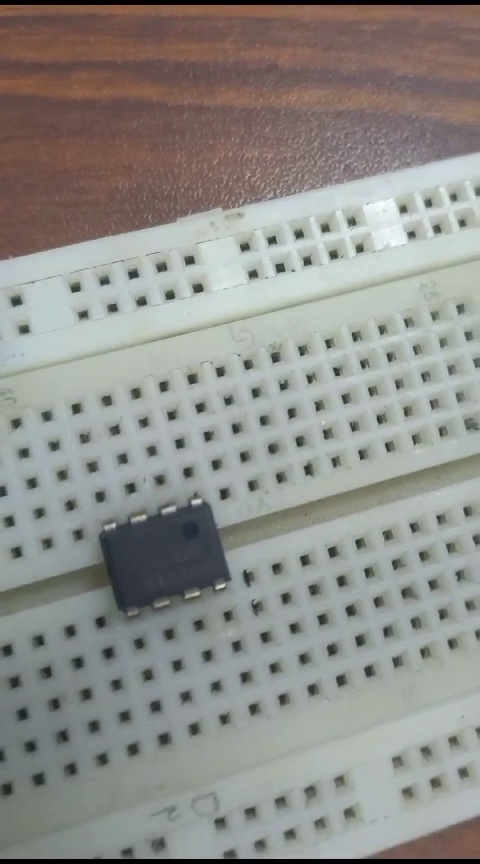IC: (82, 493, 250, 620)
